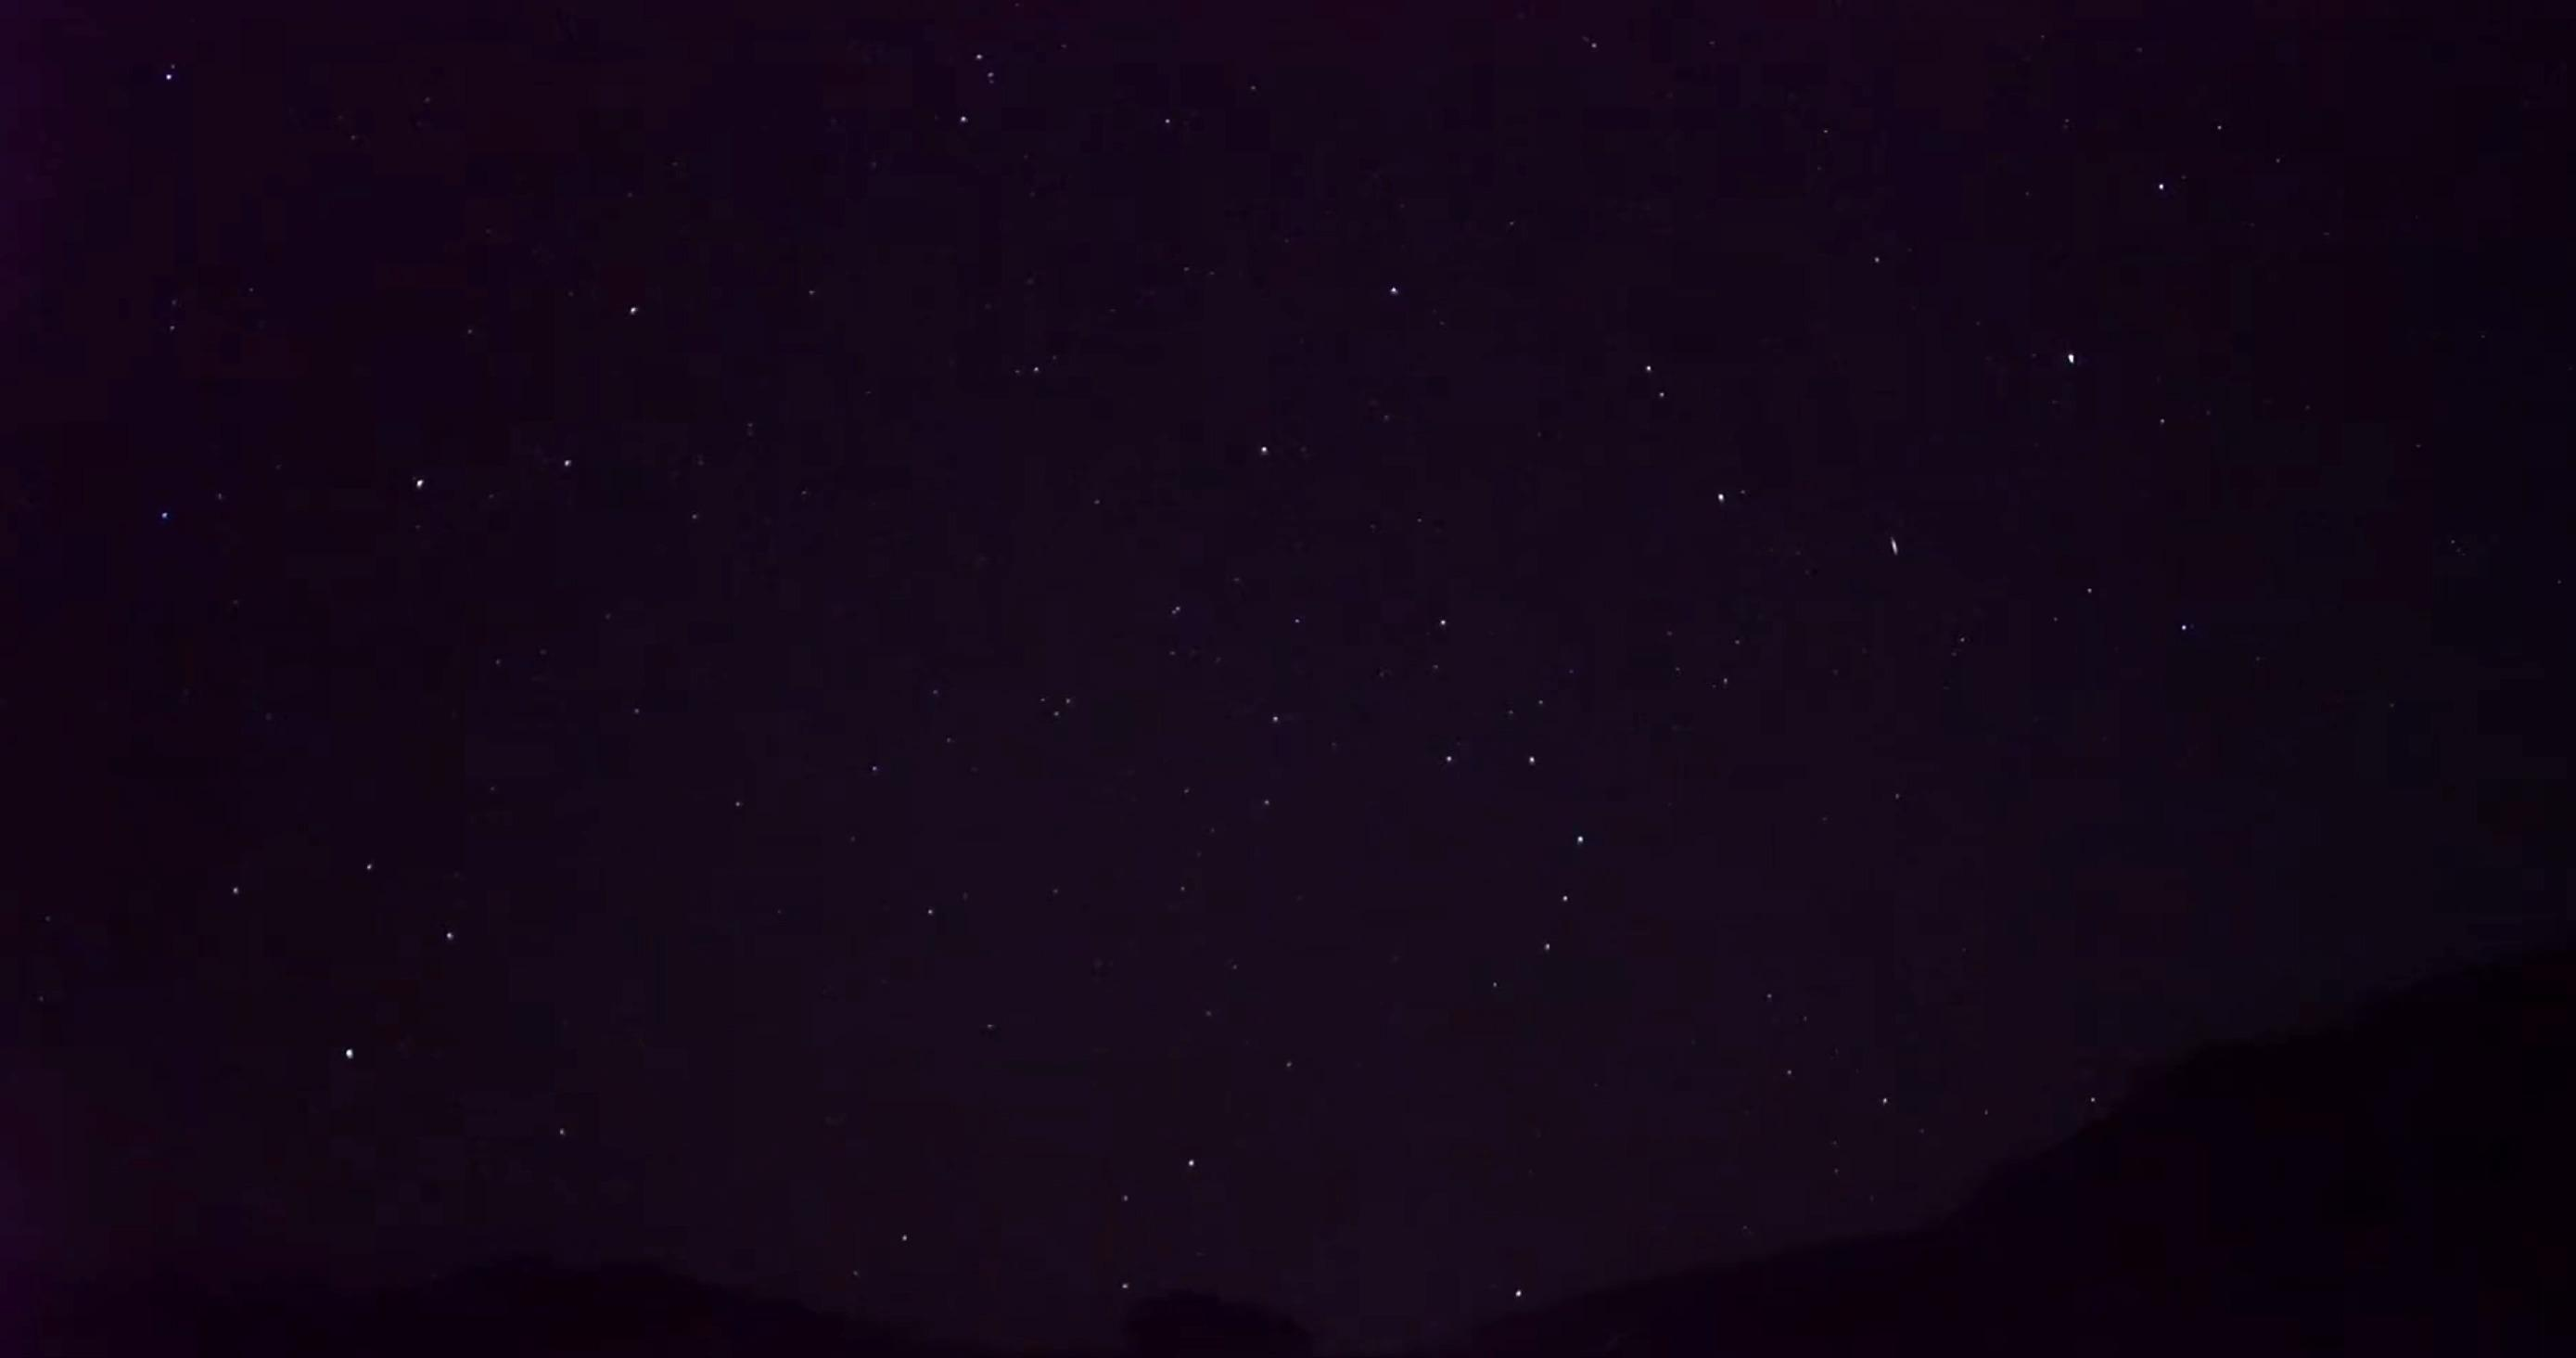meteorite: (1876, 527, 1923, 567)
